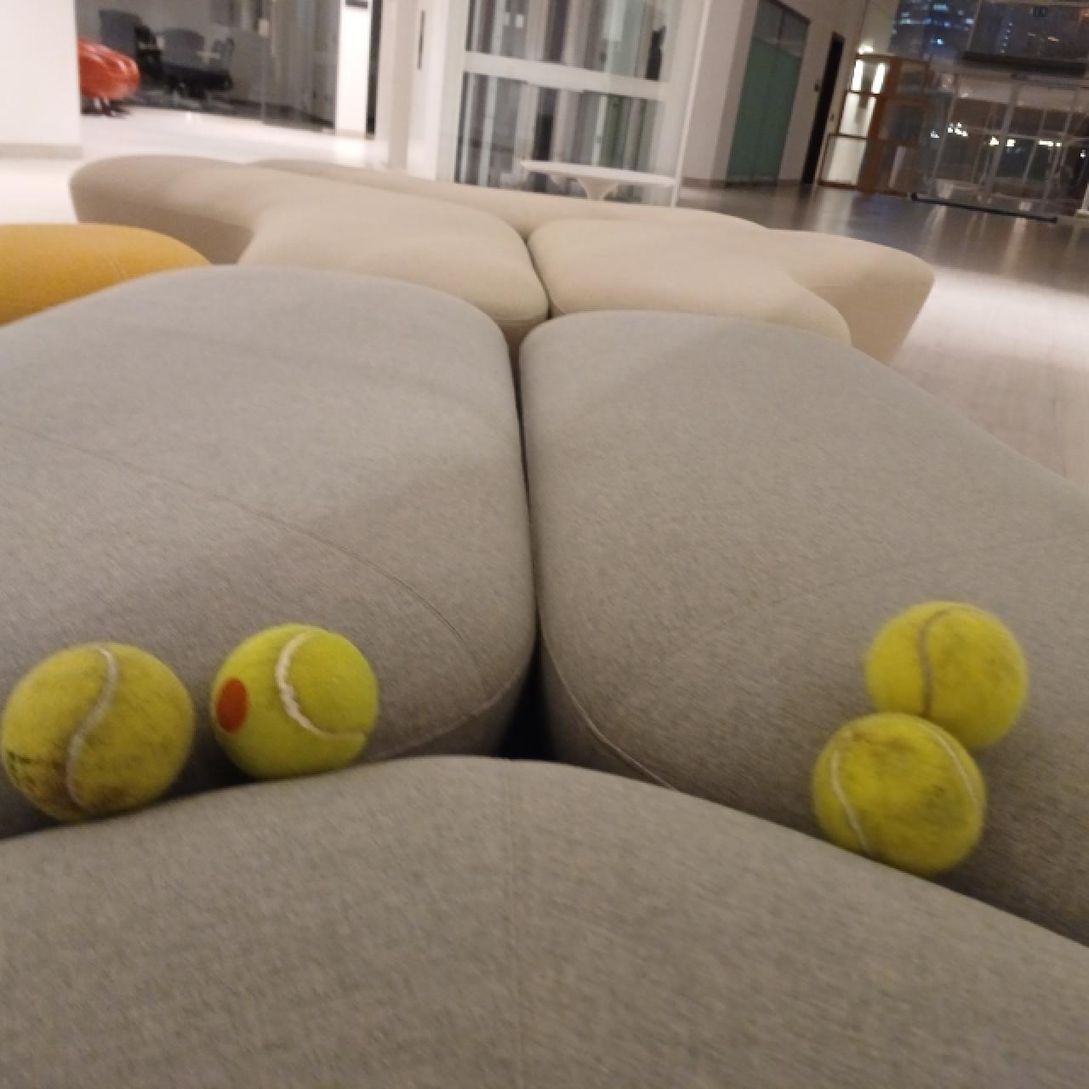tennis-ball: (0, 641, 200, 826), (809, 710, 987, 876), (206, 619, 382, 786), (862, 600, 1030, 753)
